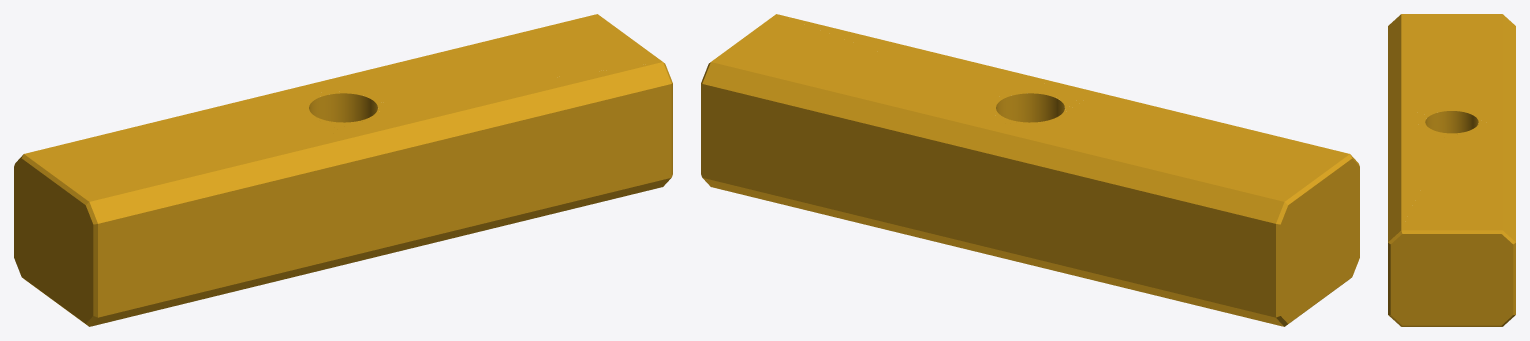
The model's file is takoz-krupp-hm-560-side-buffer-02.glb.
3 views of the same model, side by side, from view 1: azimuth 30°, elevation 25°; view 2: azimuth 150°, elevation 25°; view 3: azimuth 270°, elevation 25° (orthographic). The views are drawn at different scales.
Parts seen in each view (by area): view 1: body; view 2: body; view 3: body.
Part boxes in pixels (x1,y1,x2,y2): body: (14, 14, 672, 326); body: (701, 14, 1359, 326); body: (1388, 14, 1515, 326).
Size of the model in its own units: 0.194 by 0.04 by 0.048.
